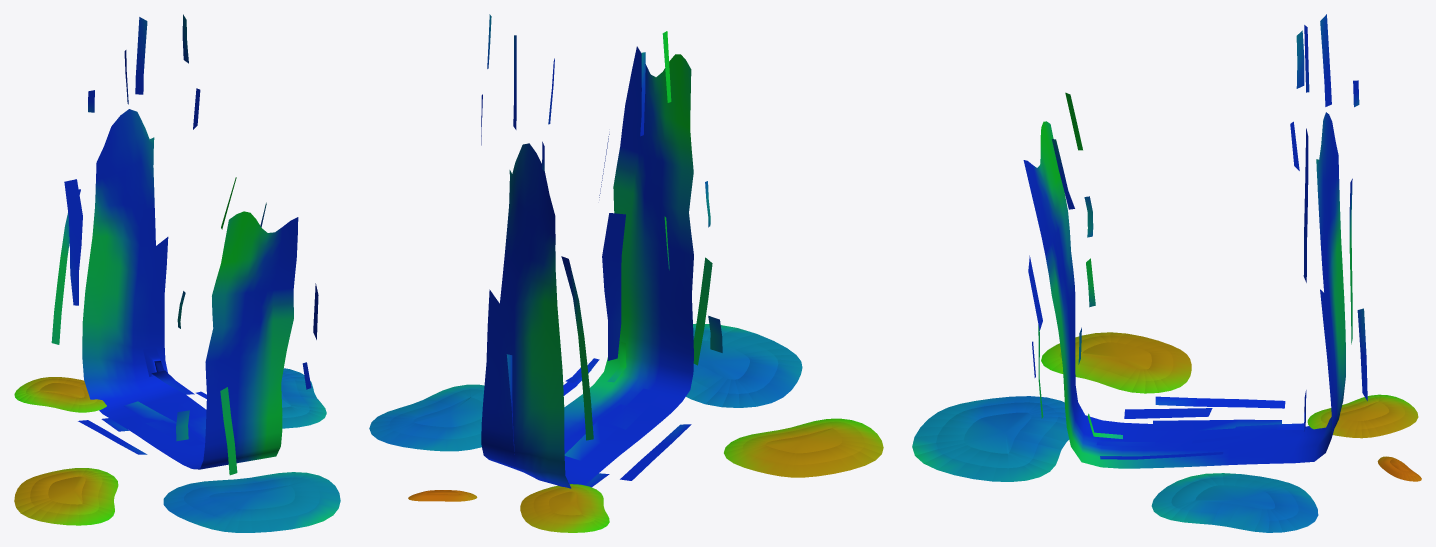
The model's file is Ch_wipesMich-lPuddle.fbx.
3 views of the same model, side by side, from view 1: azimuth 30°, elevation 25°; view 2: azimuth 150°, elevation 25°; view 3: azimuth 270°, elevation 25° (orthographic). The views are drawn at different scales.
Visible parts, largest first — view 1: Plane.002; view 2: Plane.002; view 3: Plane.002.
Part boxes in pixels (box(x1,y1,x2,y2)): Plane.002: box(14, 14, 340, 532); Plane.002: box(369, 14, 883, 532); Plane.002: box(912, 14, 1421, 532).
Size of the model in its own units: 278 by 289 by 298.
